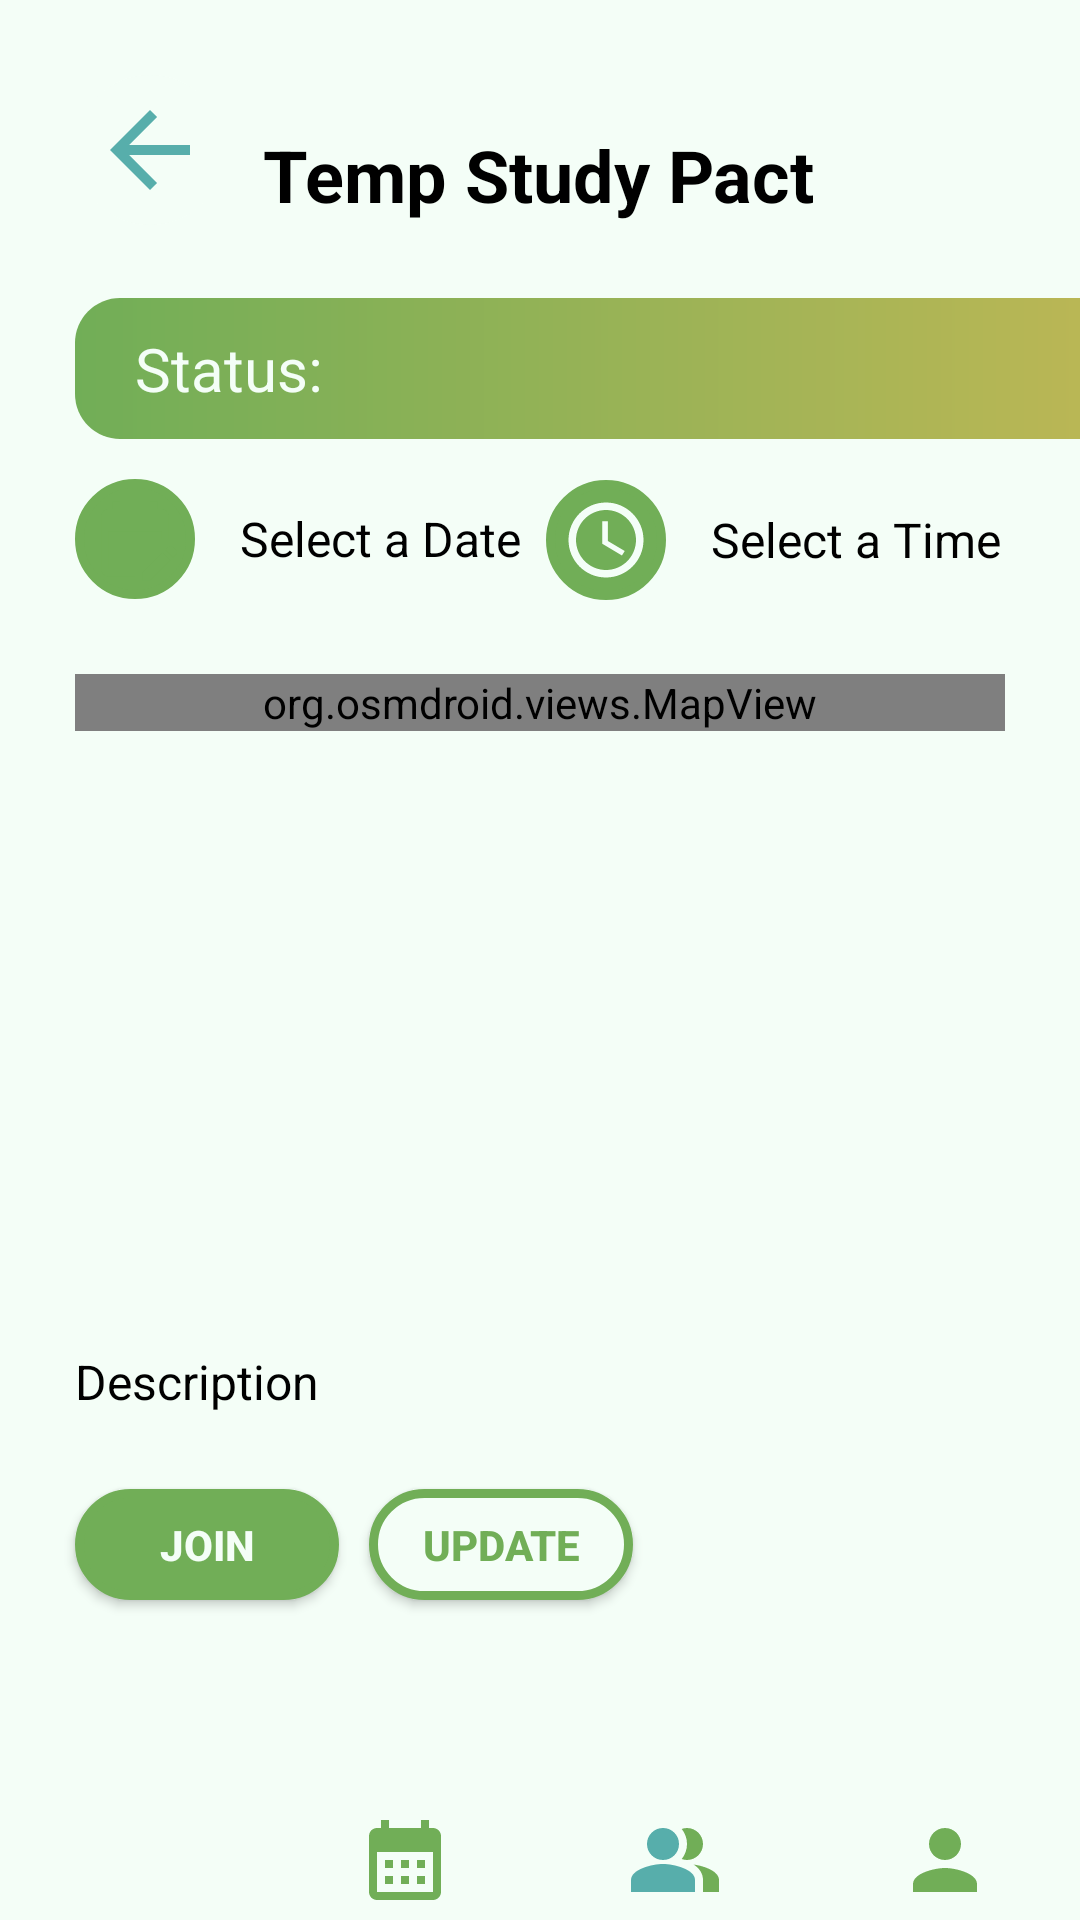

Named icons in this screenshot (1080 x 1920) and their centers, point (x, y):
calendar: point (405, 1860)
person: point (945, 1860)
return arrow: point (150, 150)
